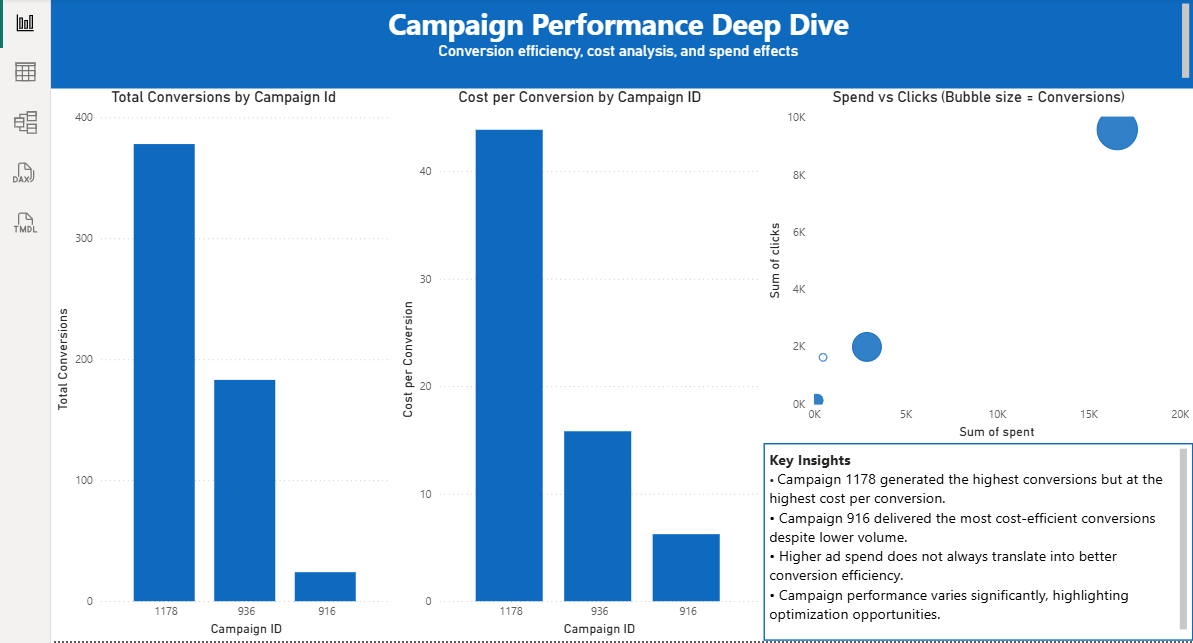

What the dashboard file says about the page in this screenshot:
{"tool":"powerbi","page":{"name":"Performance Deep Dive","canvas":[1280,720],"ordinal":1},"visuals":[{"type":"clusteredColumnChart","title":"Total Conversions by Campaign Id","fields":{"Category":["data.campaign_id"],"Y":["data.Total Conversions"]},"box":[0,100.8,386.5,619],"z":0},{"type":"clusteredColumnChart","title":"Cost per Conversion by Campaign ID","fields":{"Category":["data.campaign_id"],"Y":["data.Cost per Conversion"]},"box":[386.5,100.8,411.7,619],"z":1},{"type":"scatterChart","title":"Spend vs Clicks (Bubble size = Conversions)","fields":{"X":["Sum(data.spent)"],"Y":["Sum(data.clicks)"],"Size":["Sum(data.approved_conversion)"],"Category":["data.campaign_id"]},"box":[798.2,100.8,481.8,397.7],"z":2},{"type":"textbox","box":[0,1.4,1280,99.8],"z":3},{"type":"textbox","box":[798.2,498.6,481.8,221.3],"z":4}]}

Visuals, with their boxes on the page's 1280x720 design canvas (x1, y1, x2, y2). These are canvas units, not pixel positions in the 1193x643 screenshot, which may show the page scaled, cropped or inside an application window:
"Total Conversions by Campaign Id" clusteredColumnChart: [x1=0, y1=101, x2=386, y2=720]
"Cost per Conversion by Campaign ID" clusteredColumnChart: [x1=386, y1=101, x2=798, y2=720]
"Spend vs Clicks (Bubble size = Conversions)" scatterChart: [x1=798, y1=101, x2=1280, y2=498]
textbox: [x1=0, y1=1, x2=1280, y2=101]
textbox: [x1=798, y1=499, x2=1280, y2=720]
